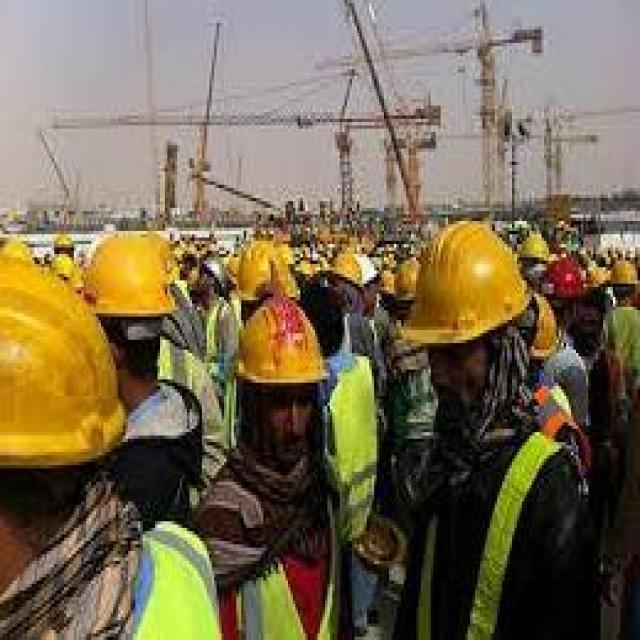Reflective-Jacket: (1, 511, 219, 640), (323, 354, 378, 538)
Safety-Helmet: (1, 247, 130, 484), (394, 211, 544, 363), (74, 218, 187, 333), (229, 290, 332, 393), (320, 241, 386, 303), (603, 251, 640, 297)
